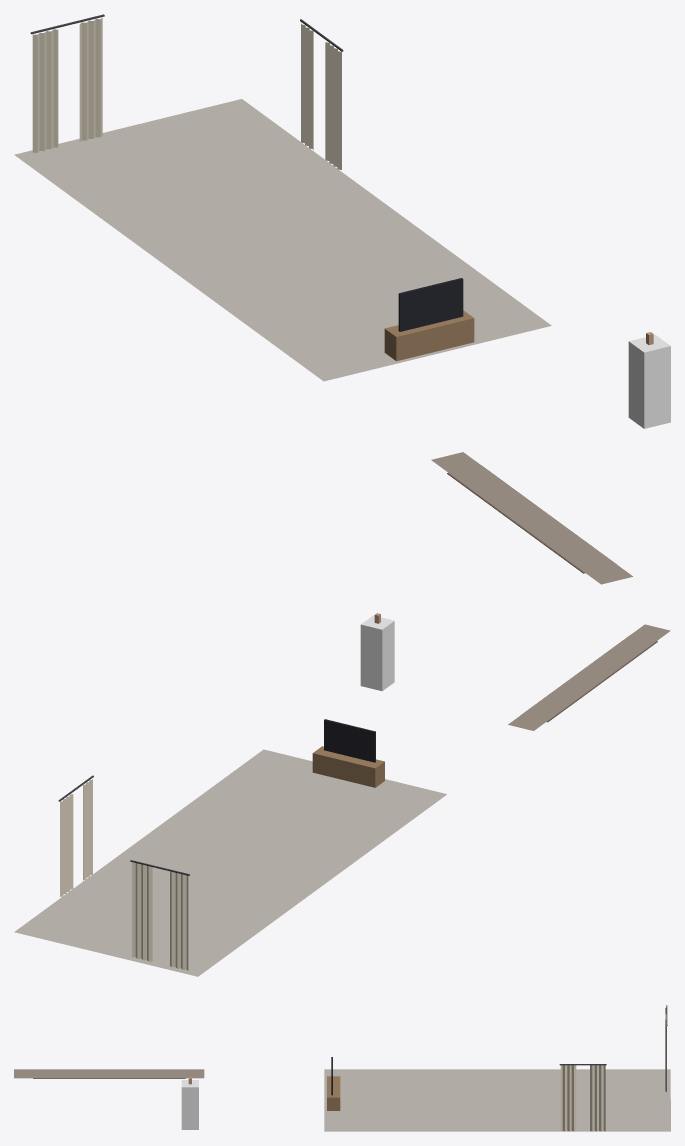
File: fine-s0.glb
3 renders of one model, top to bottom at view 1: azimuth 30°, elevation 25°; view 2: azimuth 150°, elevation 25°; view 3: azimuth 270°, elevation 25°, orthographic. The views are drawn at different scales.
Parts seen in each view (by area): view 1: soft-s0, tv-console.000, water-heater.000; view 2: soft-s0, tv-console.000, water-heater.000; view 3: soft-s0, water-heater.000, tv-console.000.
Part boxes in pixels (<box>): soft-s0: <box>14,14,632,584</box>; tv-console.000: <box>384,278,474,361</box>; water-heater.000: <box>628,332,670,428</box>; soft-s0: <box>14,624,670,976</box>; tv-console.000: <box>312,719,384,787</box>; water-heater.000: <box>360,613,394,691</box>; soft-s0: <box>14,1005,670,1131</box>; water-heater.000: <box>181,1077,198,1129</box>; tv-console.000: <box>327,1057,340,1110</box>.
Size of the model in its own units: 4.75 by 2.4 by 20.9.
